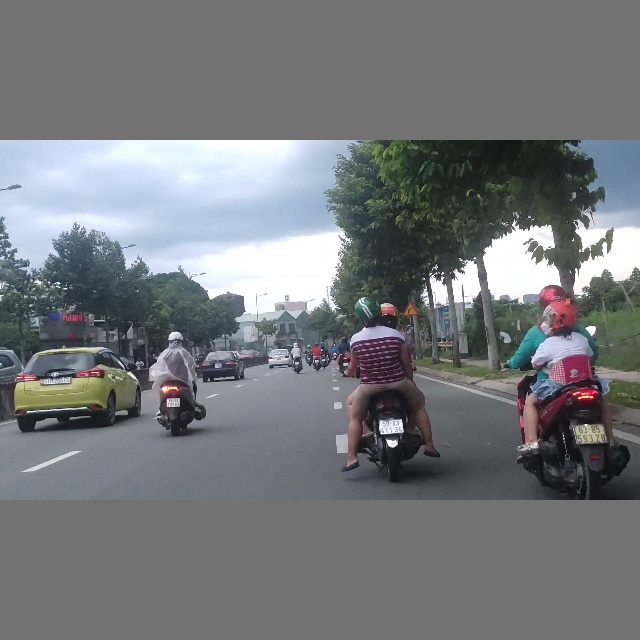W.201b: (403, 302, 418, 316)
